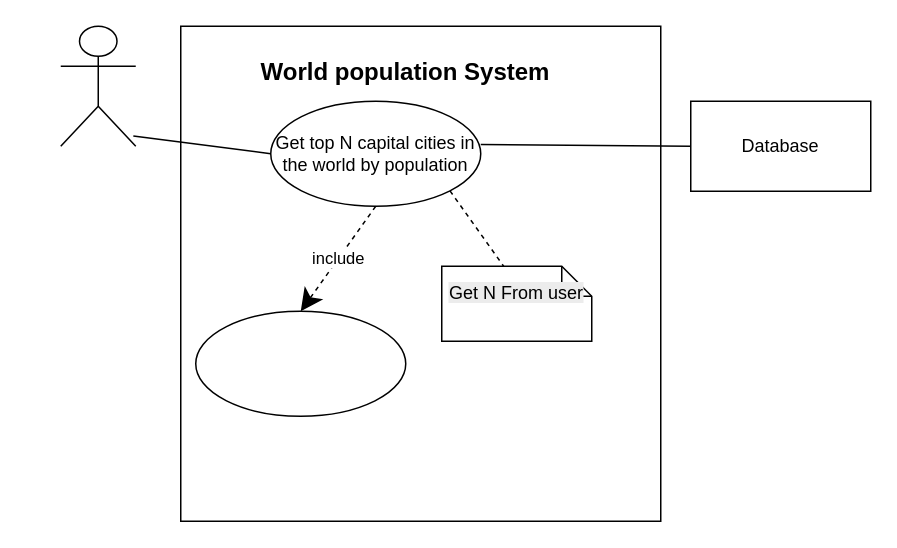
The diagram is 897 pixels wide and 548 high, and some of its shapes have lost their labels. Here are the shapes that lost their labels. From the top down, the centre of each, then its label:
At (x=97, y=85): "Organisation User".
At (x=300, y=363): "Generate Report".
